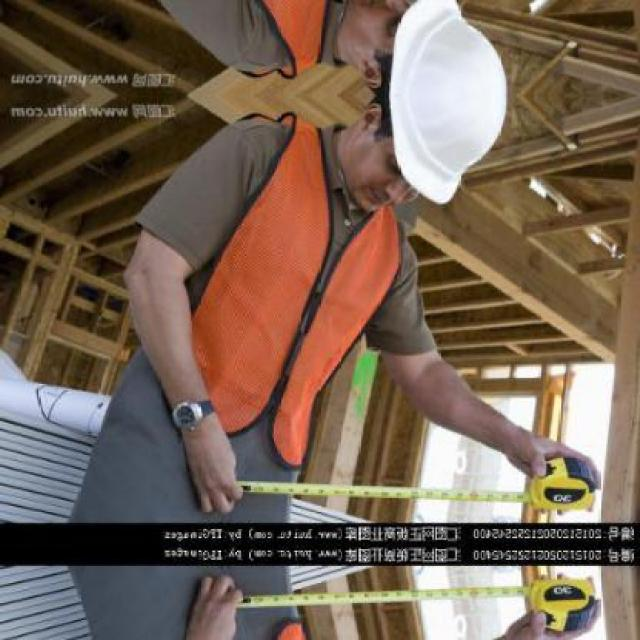Reflective-Jacket: (123, 110, 417, 482)
Safety-Helmet: (380, 6, 515, 210)
